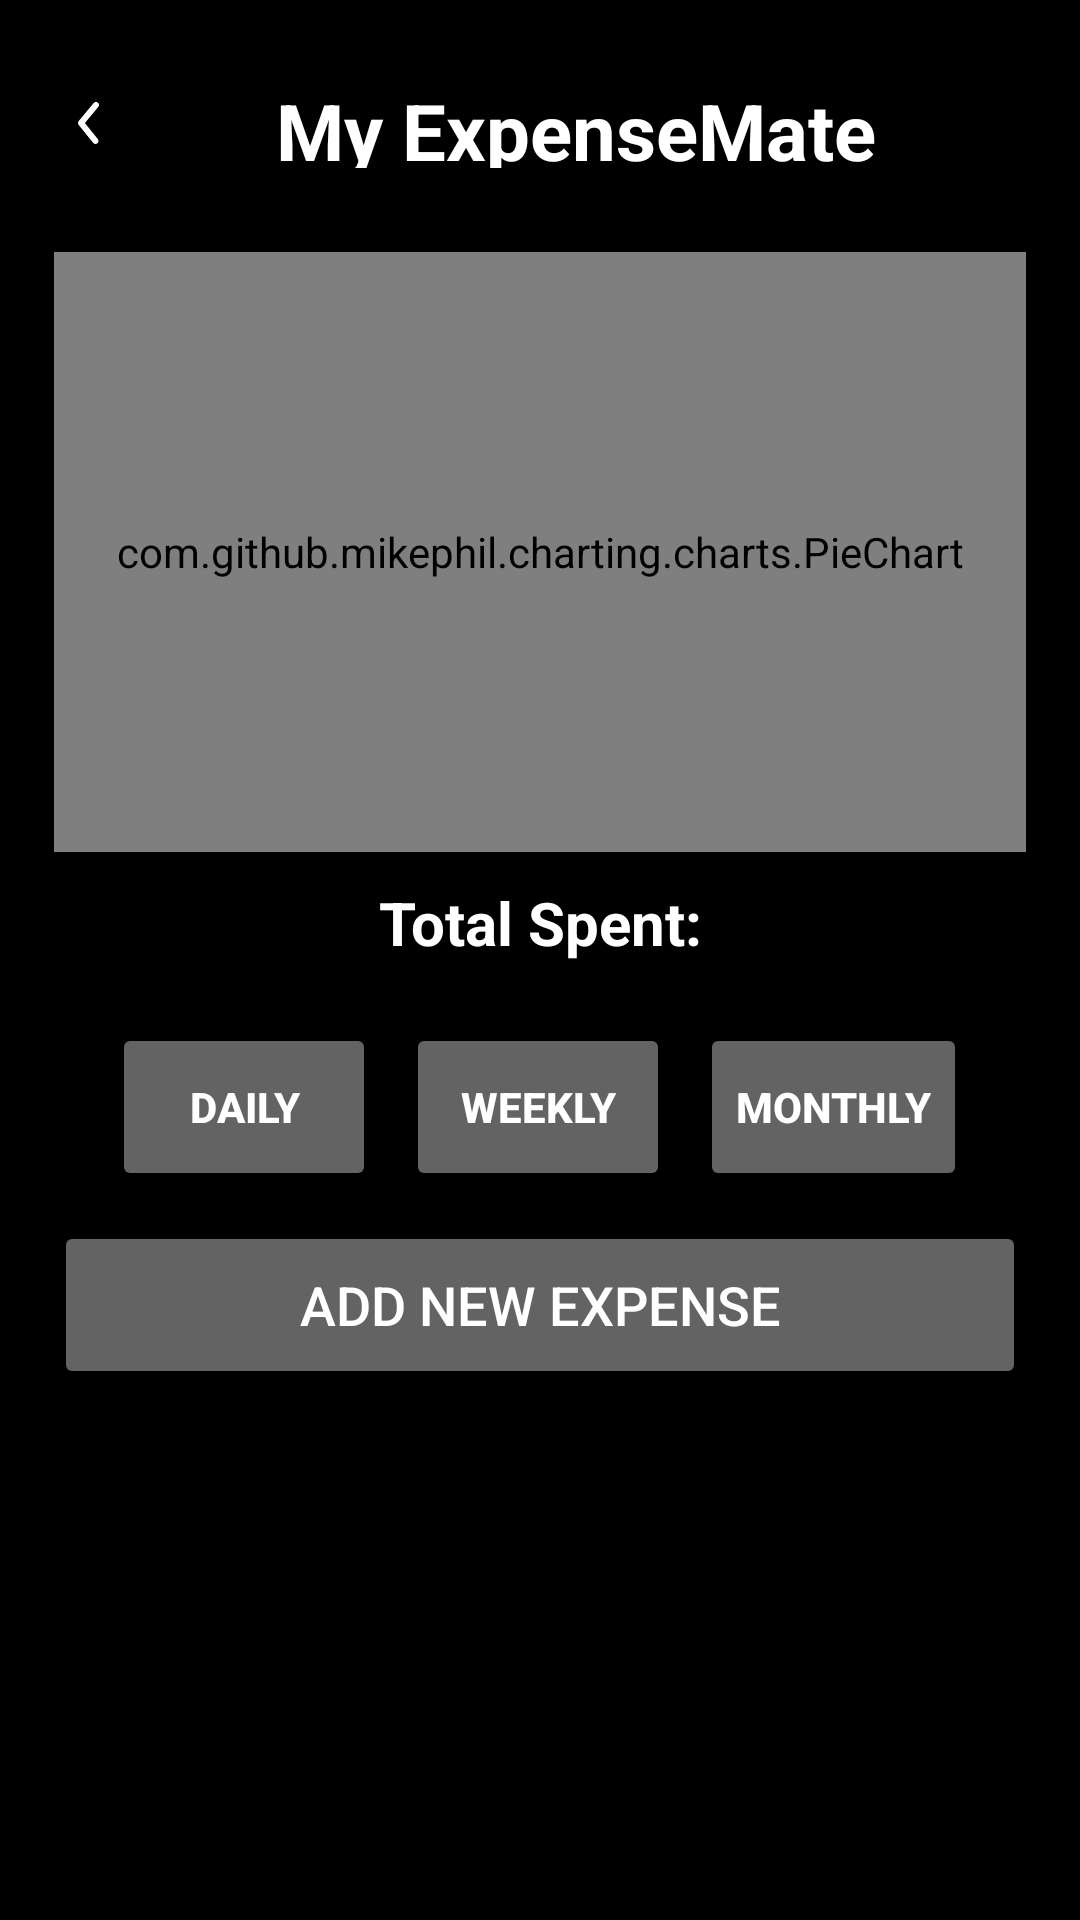

Named icons in this screenshot (1080 x 1920) and their centers, (x=x, y=y):
Back: (x=88, y=123)
